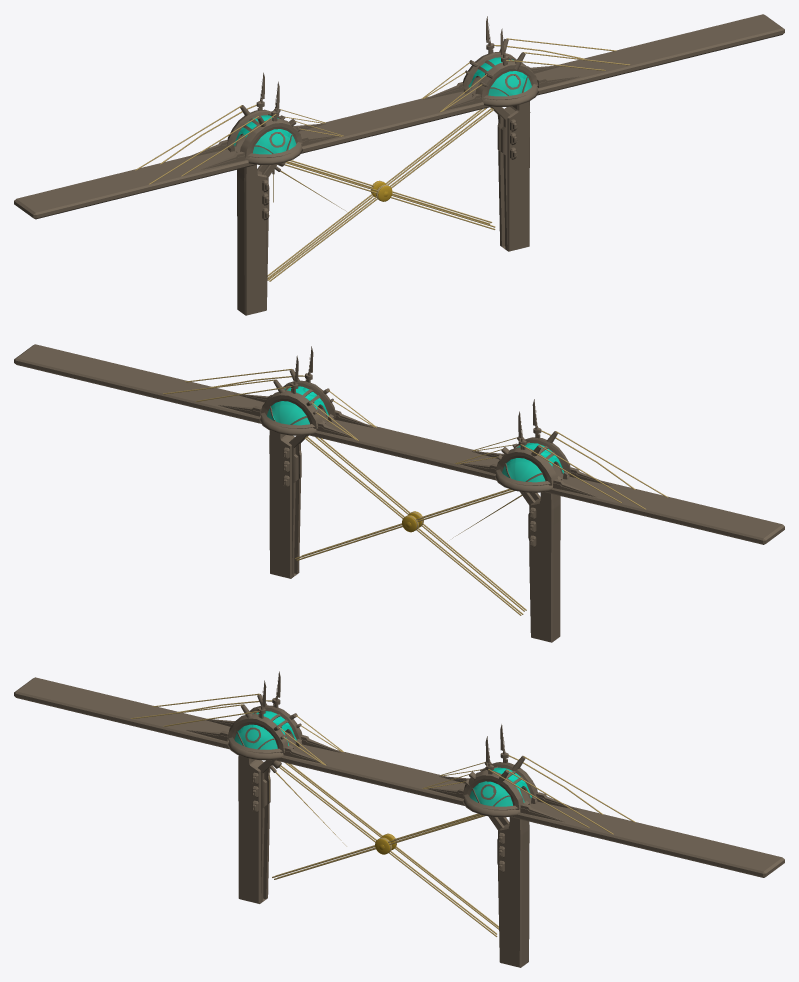
File: Bridge.fbx
The picture shows the model from 3 angles, top to bottom: view 1: azimuth 30°, elevation 25°; view 2: azimuth 150°, elevation 25°; view 3: azimuth 330°, elevation 25°; orthographic projection.
Visible parts, largest first — view 1: bridge, front_tower_colum, pasted__front_tower_colum, front_globe, pasted__front_globe, pasted__pTorus1, pasted__pasted__pTorus1; view 2: bridge, front_tower_colum, pasted__front_tower_colum, pasted__front_globe, front_globe, pasted__pTorus1, pasted__pasted__pTorus1; view 3: bridge, pasted__front_tower_colum, front_tower_colum, front_globe, pasted__front_globe, pasted__pTorus1, pasted__pasted__pTorus1.
Boxes of the visible parts, x1,y1,x2,y2 form: bridge: (14, 14, 784, 219); front_tower_colum: (237, 165, 269, 315); pasted__front_tower_colum: (497, 101, 530, 251); front_globe: (227, 109, 302, 157); pasted__front_globe: (462, 52, 538, 99); pasted__pTorus1: (228, 129, 302, 164); pasted__pasted__pTorus1: (463, 71, 538, 107); bridge: (14, 344, 784, 544); front_tower_colum: (528, 492, 560, 642); pasted__front_tower_colum: (269, 430, 301, 578); pasted__front_globe: (260, 380, 335, 428); front_globe: (495, 437, 570, 485); pasted__pTorus1: (495, 458, 569, 492); pasted__pasted__pTorus1: (259, 401, 334, 435); bridge: (14, 677, 784, 877); pasted__front_tower_colum: (497, 817, 529, 967); front_tower_colum: (238, 755, 270, 903); front_globe: (227, 705, 302, 753); pasted__front_globe: (462, 762, 537, 809); pasted__pTorus1: (227, 725, 302, 760); pasted__pasted__pTorus1: (463, 782, 537, 817).
Bounding box in the file's own units: 75.13 × 21.91 × 6.74.
